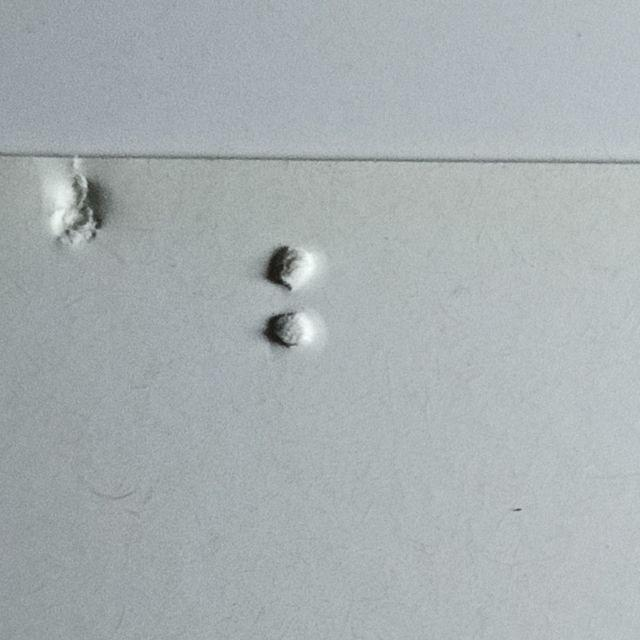bakit: (272, 246, 357, 409)
